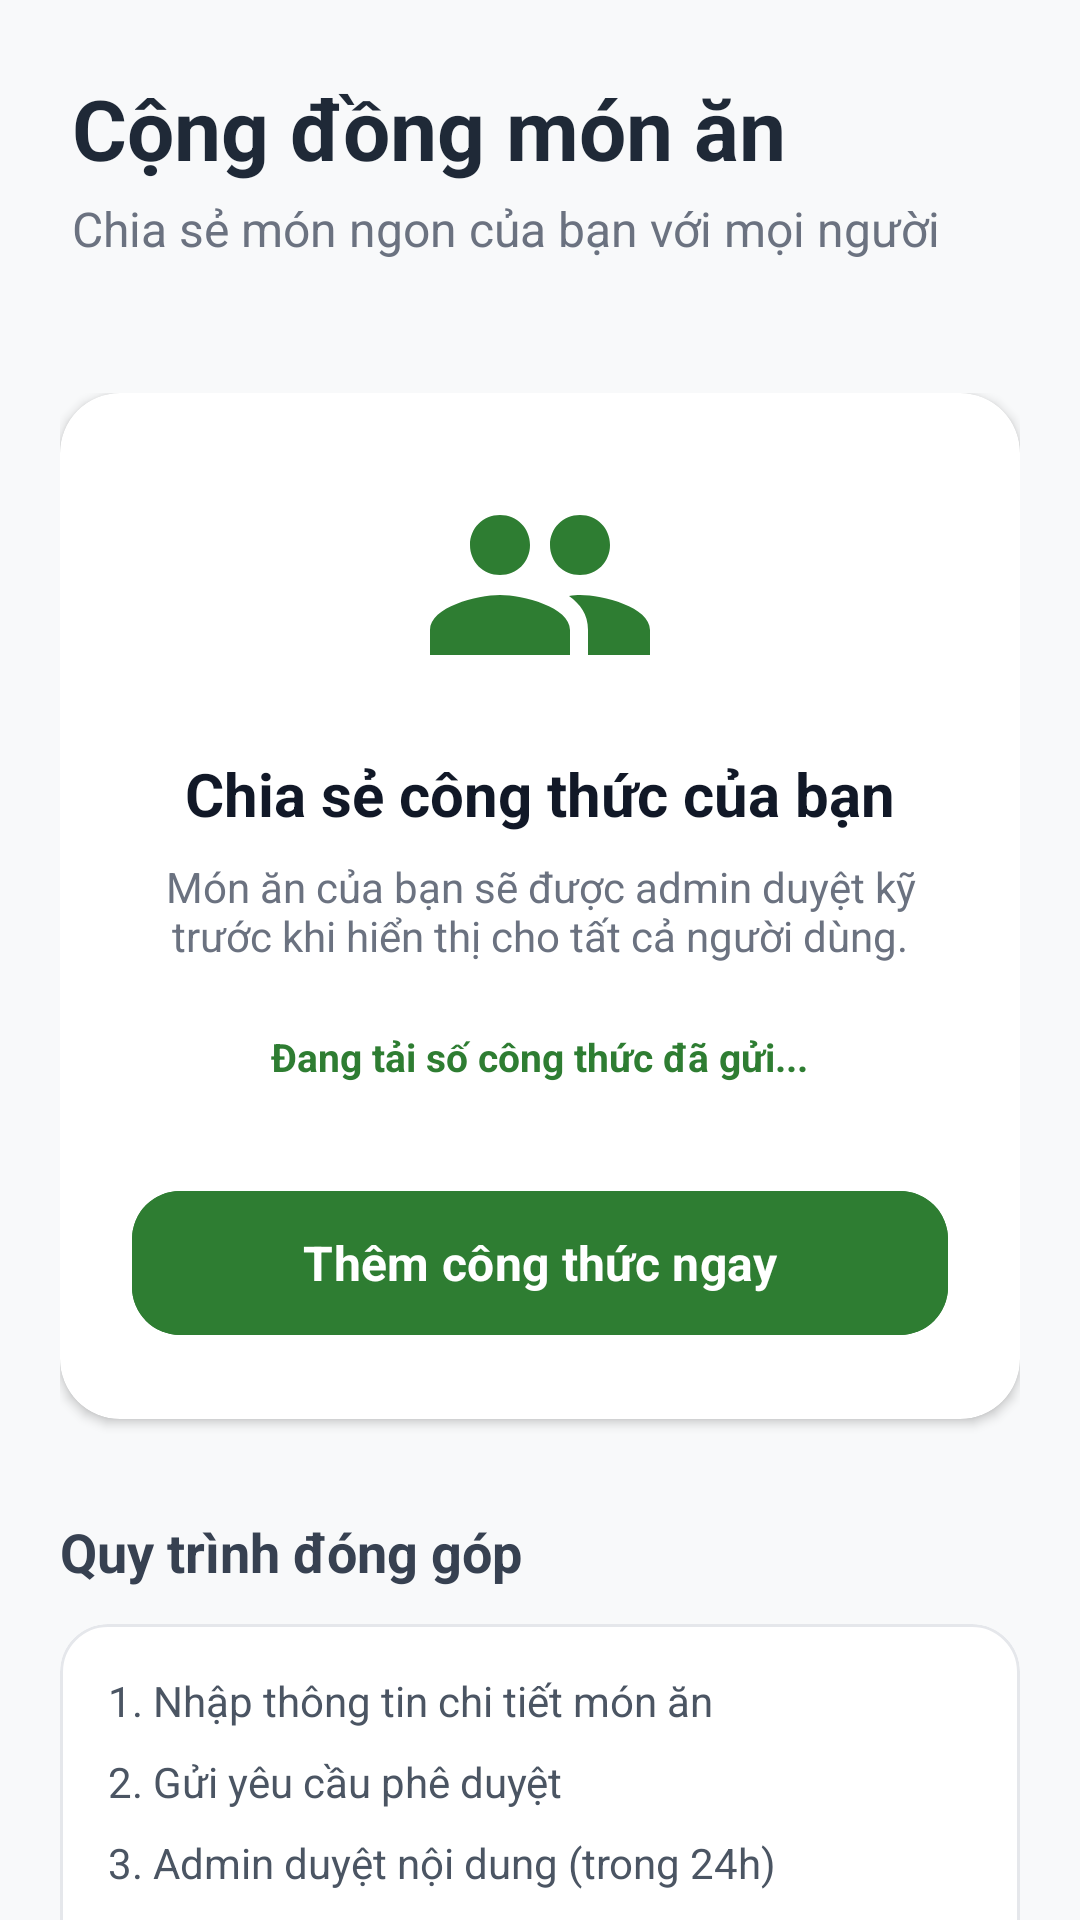

Icons on this 1080 × 1920 Android screen, each with the point to tap as [x,y]:
community: [540,585]
